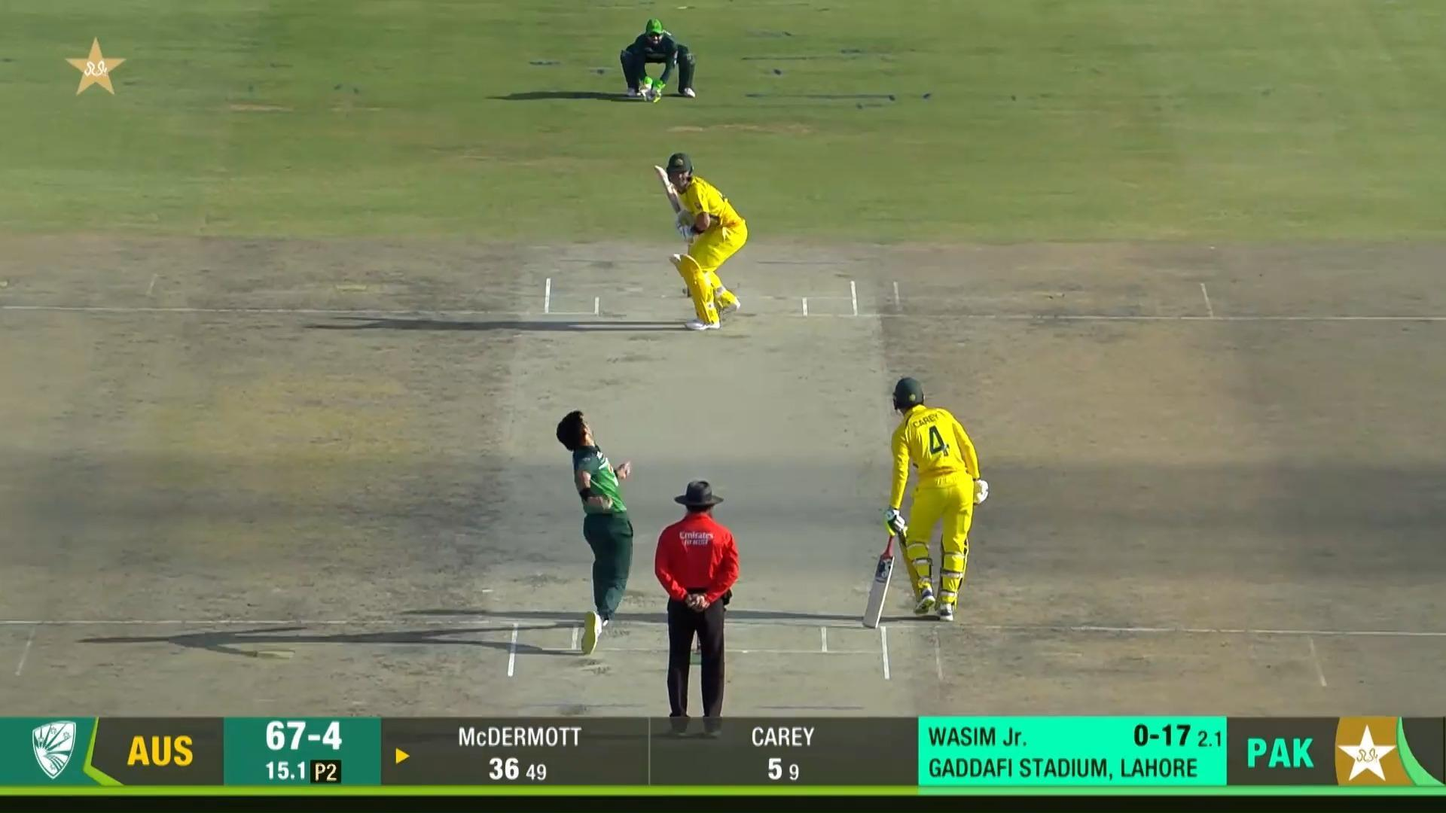BM 1: (652, 154, 748, 332)
BO: (556, 410, 631, 656)
